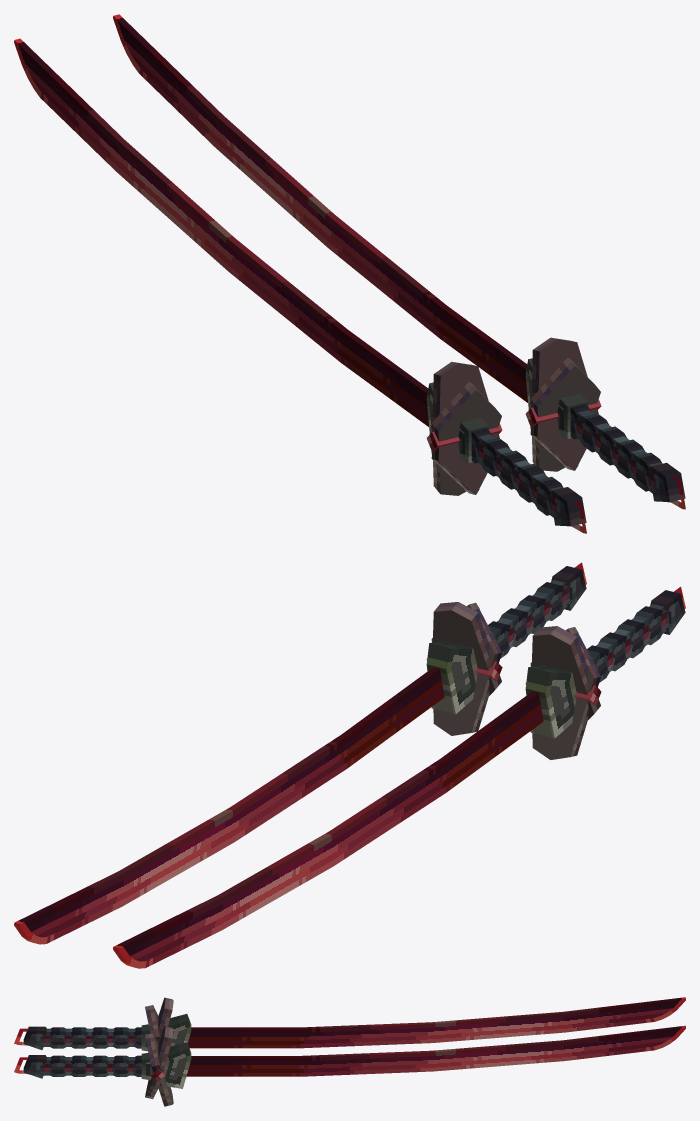
The model's file is blood_blade.glb.
The picture shows the model from 3 angles, top to bottom: view 1: azimuth 30°, elevation 25°; view 2: azimuth 150°, elevation 25°; view 3: azimuth 270°, elevation 25°; orthographic projection. The views are drawn at different scales.
Parts seen in each view (by area): view 1: main__Tool_R, off__Tool_L; view 2: main__Tool_R, off__Tool_L; view 3: off__Tool_L, main__Tool_R.
Boxes of the visible parts, x1=… form: main__Tool_R: x1=14, y1=38, x2=586, y2=533; off__Tool_L: x1=113, y1=14, x2=685, y2=509; main__Tool_R: x1=113, y1=586, x2=685, y2=968; off__Tool_L: x1=14, y1=562, x2=586, y2=944; off__Tool_L: x1=14, y1=1025, x2=685, y2=1106; main__Tool_R: x1=14, y1=997, x2=685, y2=1051.
Bounding box in the file's own units: 0.4141 × 0.3229 × 2.49.
Materials: 1 (1 with a texture image).
